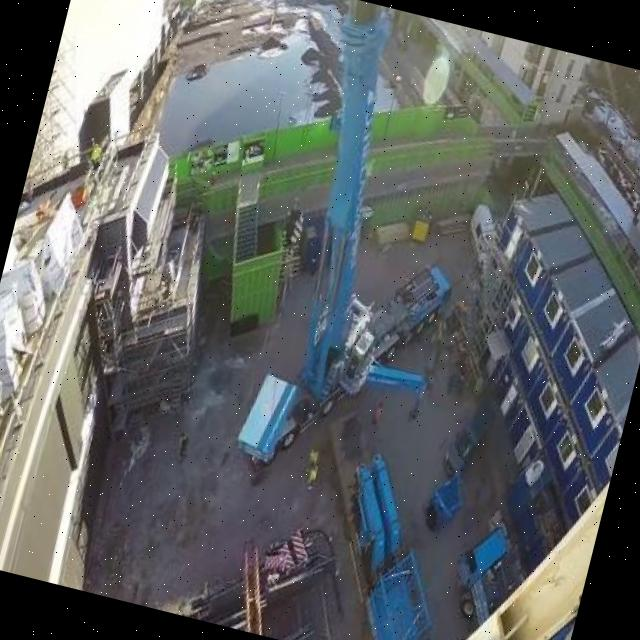Mobile Crane: (225, 0, 514, 511)
